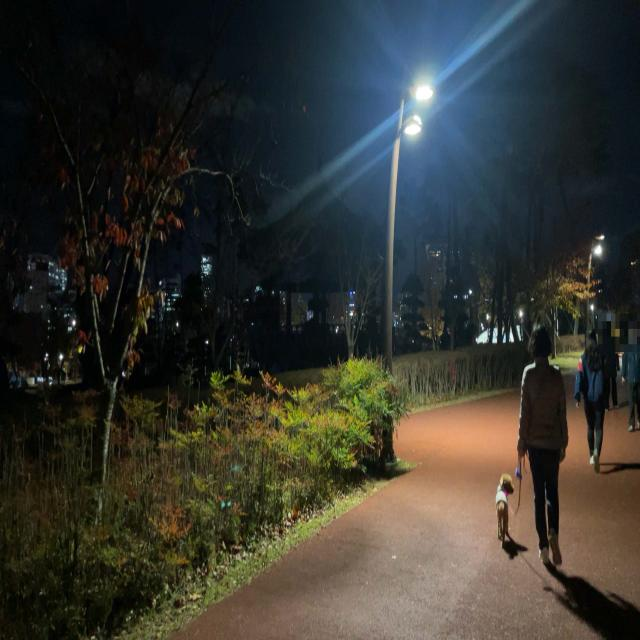Leashed_Dog: (495, 436, 538, 552)
